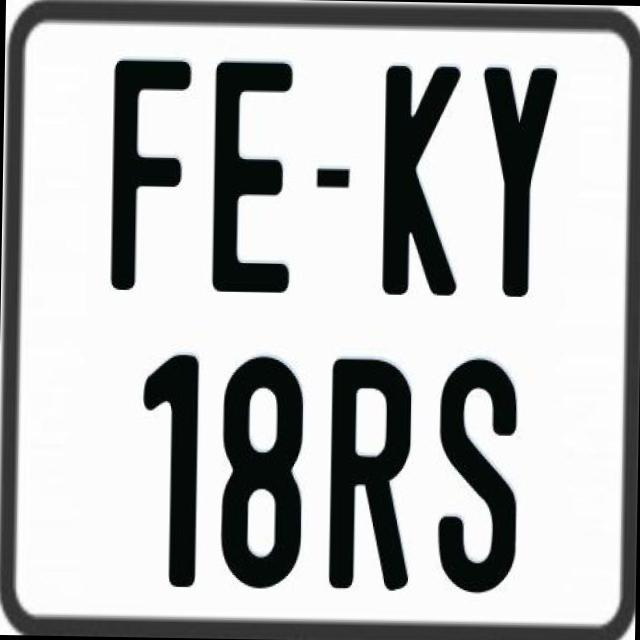1: (138, 354, 200, 594)
8: (218, 353, 305, 594)
E: (208, 61, 292, 300)
F: (110, 55, 198, 288)
K: (379, 65, 462, 300)
S: (435, 354, 525, 590)
Y: (479, 65, 559, 304)
